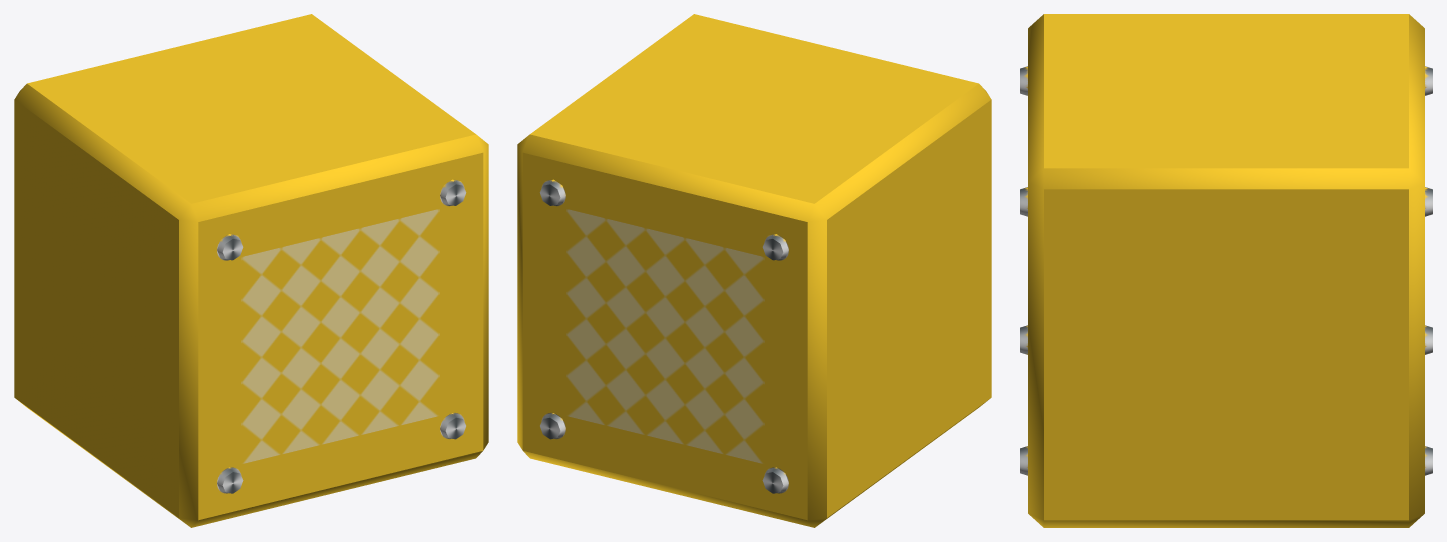
File: MetalBox.FBX
The picture shows the model from 3 angles, left to right: view 1: azimuth 30°, elevation 25°; view 2: azimuth 150°, elevation 25°; view 3: azimuth 270°, elevation 25°; orthographic projection. The views are drawn at different scales.
Parts seen in each view (by area): view 1: Box001; view 2: Box001; view 3: Box001.
Part boxes in pixels (box(x1,y1,x2,y2)): Box001: box(14, 14, 488, 527); Box001: box(517, 14, 991, 527); Box001: box(1020, 14, 1432, 527).
Bounding box in the file's own units: 197 × 197 × 205.
